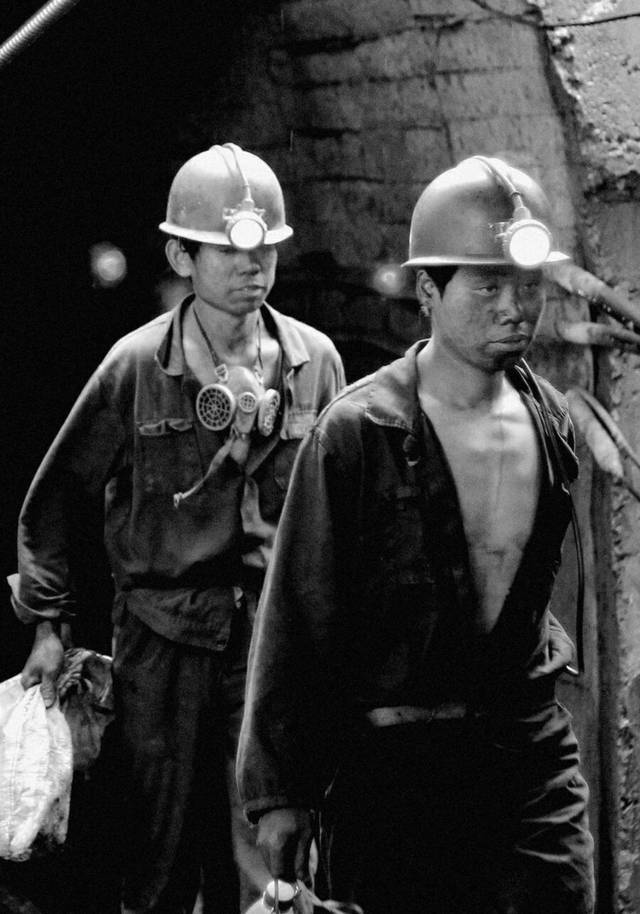helmet: (397, 142, 574, 384), (157, 139, 315, 318)
